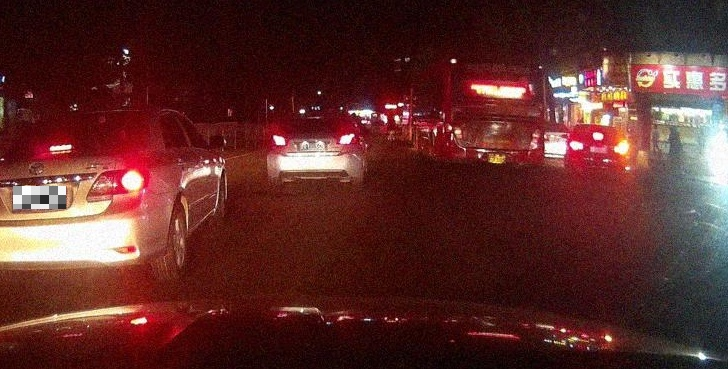L_light: (453, 126, 463, 145), (272, 136, 288, 146), (569, 141, 583, 150)
R_light: (337, 133, 357, 144), (529, 129, 540, 148), (614, 145, 626, 153)
T_light: (490, 65, 505, 70), (307, 118, 320, 123), (593, 133, 603, 138)
night-no: (443, 56, 544, 170), (267, 116, 364, 191)
night-right: (566, 124, 627, 174)
plate_1: (13, 186, 66, 209)
